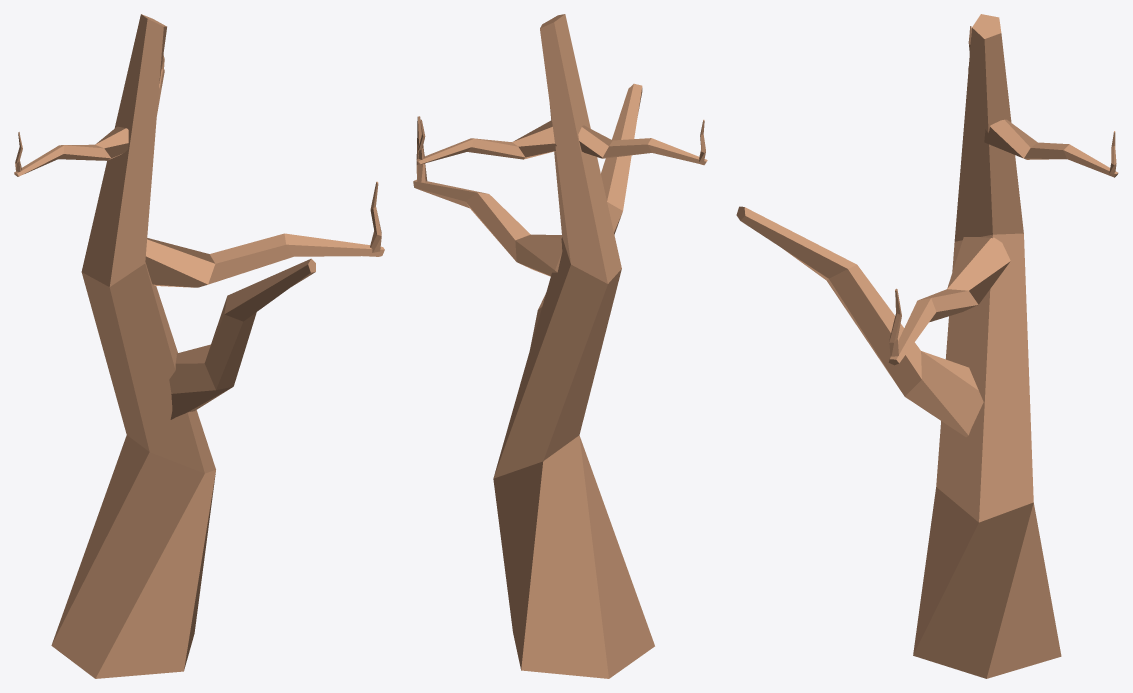
The model's file is Tree4_Rot270.fbx.
3 renders of one model, left to right at view 1: azimuth 30°, elevation 25°; view 2: azimuth 150°, elevation 25°; view 3: azimuth 270°, elevation 25°, orthographic.
Visible parts, largest first — view 1: Cylinder.023; view 2: Cylinder.023; view 3: Cylinder.023.
Boxes of the visible parts, x1,y1,x2,y2 form: Cylinder.023: (14,14,384,678); Cylinder.023: (413,14,707,678); Cylinder.023: (736,14,1118,678).
Size of the model in its own units: 225 by 407 by 220.
